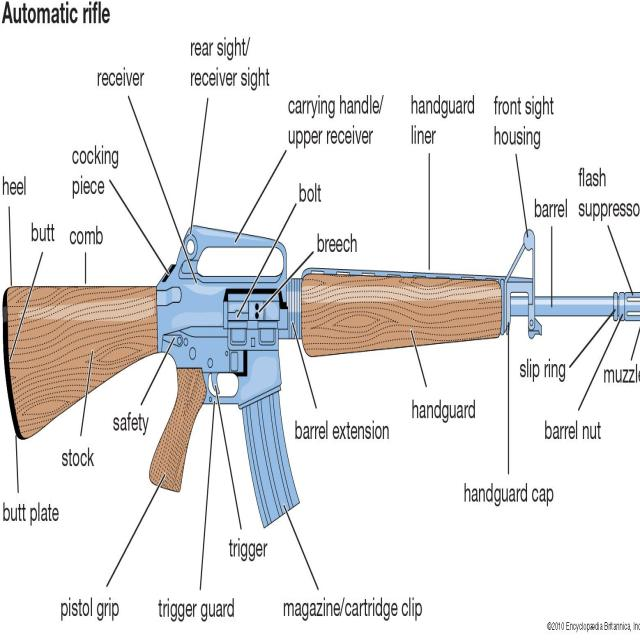Weapon: (2, 224, 540, 526)
